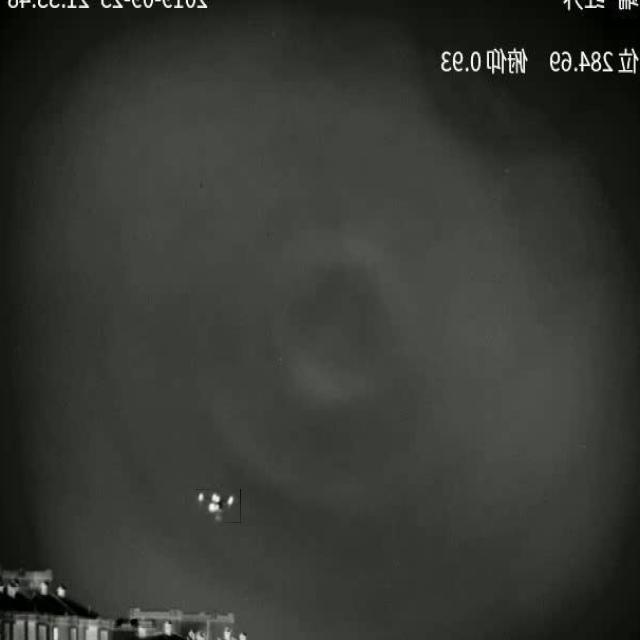drone: (196, 489, 241, 523)
